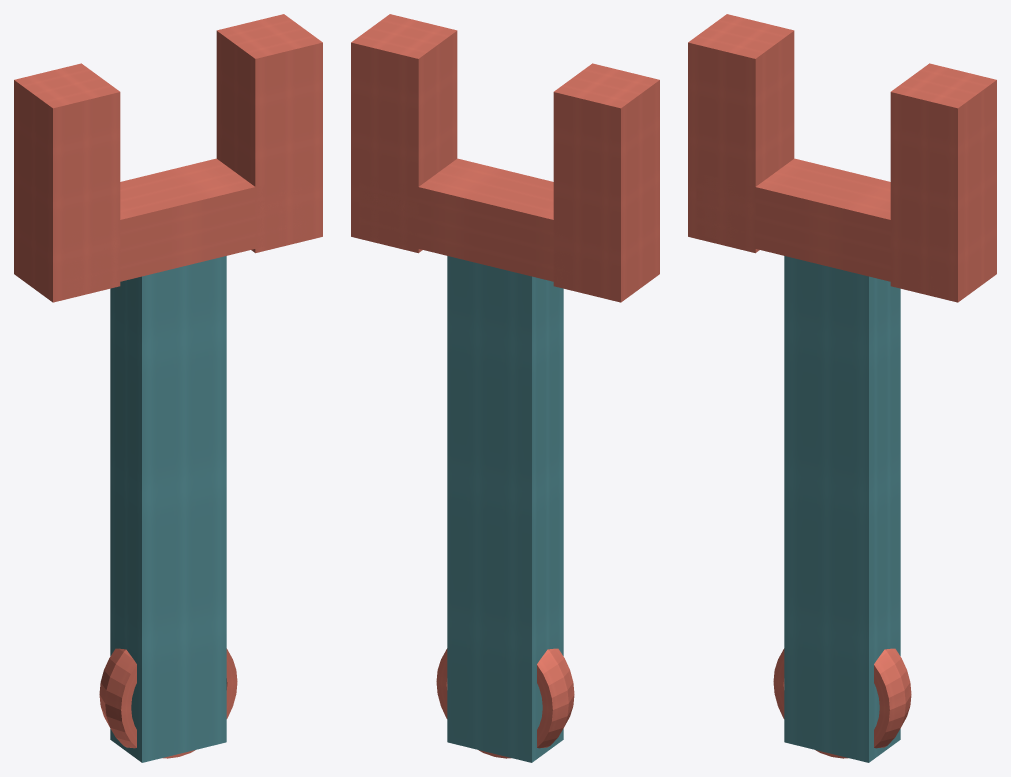
The model's file is atlas100-s072-a05.glb.
3 views of the same model, side by side, from view 1: azimuth 30°, elevation 25°; view 2: azimuth 150°, elevation 25°; view 3: azimuth 330°, elevation 25° (orthographic).
Parts seen in each view (by area): view 1: atlas100-s072-a05:part-000, atlas100-s072-a05:part-001, atlas100-s072-a05:part-002, atlas100-s072-a05:part-003, atlas100-s072-a05:part-004; view 2: atlas100-s072-a05:part-000, atlas100-s072-a05:part-001, atlas100-s072-a05:part-002, atlas100-s072-a05:part-003, atlas100-s072-a05:part-004; view 3: atlas100-s072-a05:part-000, atlas100-s072-a05:part-002, atlas100-s072-a05:part-001, atlas100-s072-a05:part-003, atlas100-s072-a05:part-004.
Boxes of the visible parts, x1,y1,x2,y2 form: atlas100-s072-a05:part-000: [110, 256, 226, 762]; atlas100-s072-a05:part-001: [14, 63, 120, 302]; atlas100-s072-a05:part-002: [216, 14, 322, 253]; atlas100-s072-a05:part-003: [61, 158, 313, 295]; atlas100-s072-a05:part-004: [99, 648, 237, 758]; atlas100-s072-a05:part-000: [447, 256, 563, 762]; atlas100-s072-a05:part-001: [553, 63, 659, 302]; atlas100-s072-a05:part-002: [351, 14, 457, 253]; atlas100-s072-a05:part-003: [359, 158, 612, 294]; atlas100-s072-a05:part-004: [436, 648, 574, 758]; atlas100-s072-a05:part-000: [784, 256, 900, 762]; atlas100-s072-a05:part-002: [890, 63, 996, 302]; atlas100-s072-a05:part-001: [688, 14, 794, 253]; atlas100-s072-a05:part-003: [696, 158, 948, 293]; atlas100-s072-a05:part-004: [773, 648, 911, 758].
Size of the model in its own units: 0.3494 by 0.8572 by 0.0874.
2 materials, 2 textured.
